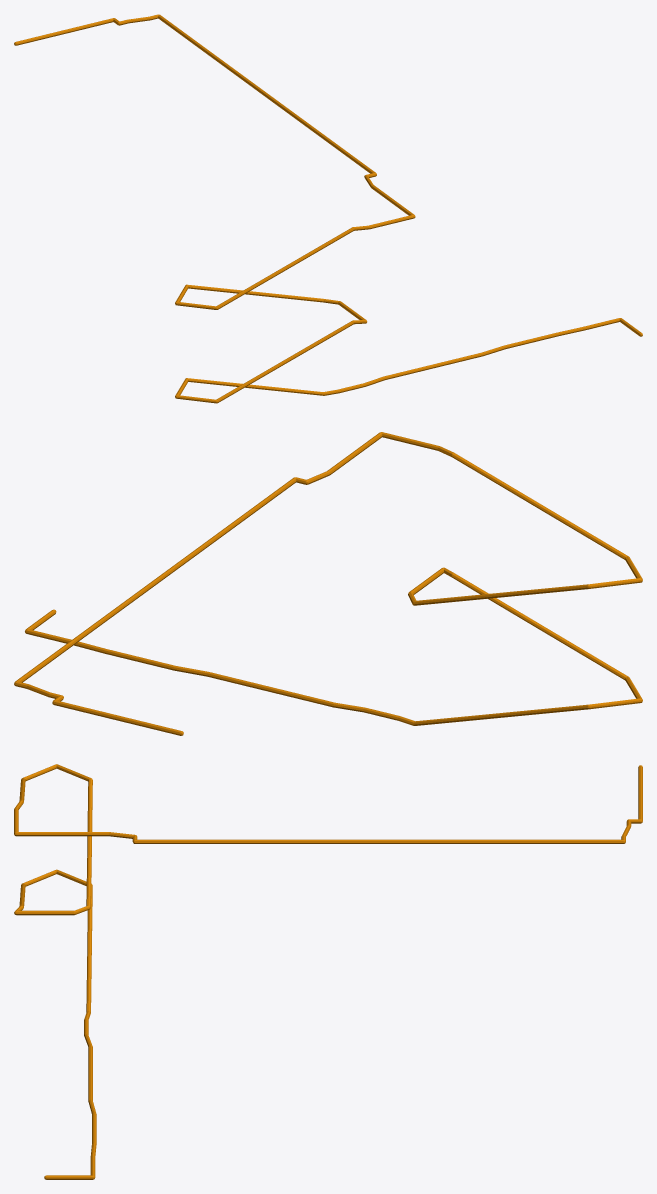
3 renders of one model, top to bottom at view 1: azimuth 30°, elevation 25°; view 2: azimuth 150°, elevation 25°; view 3: azimuth 270°, elevation 25°, orthographic. The views are drawn at different scales.
Bounding box in the file's own units: 2595 × 1020 × 2704.
